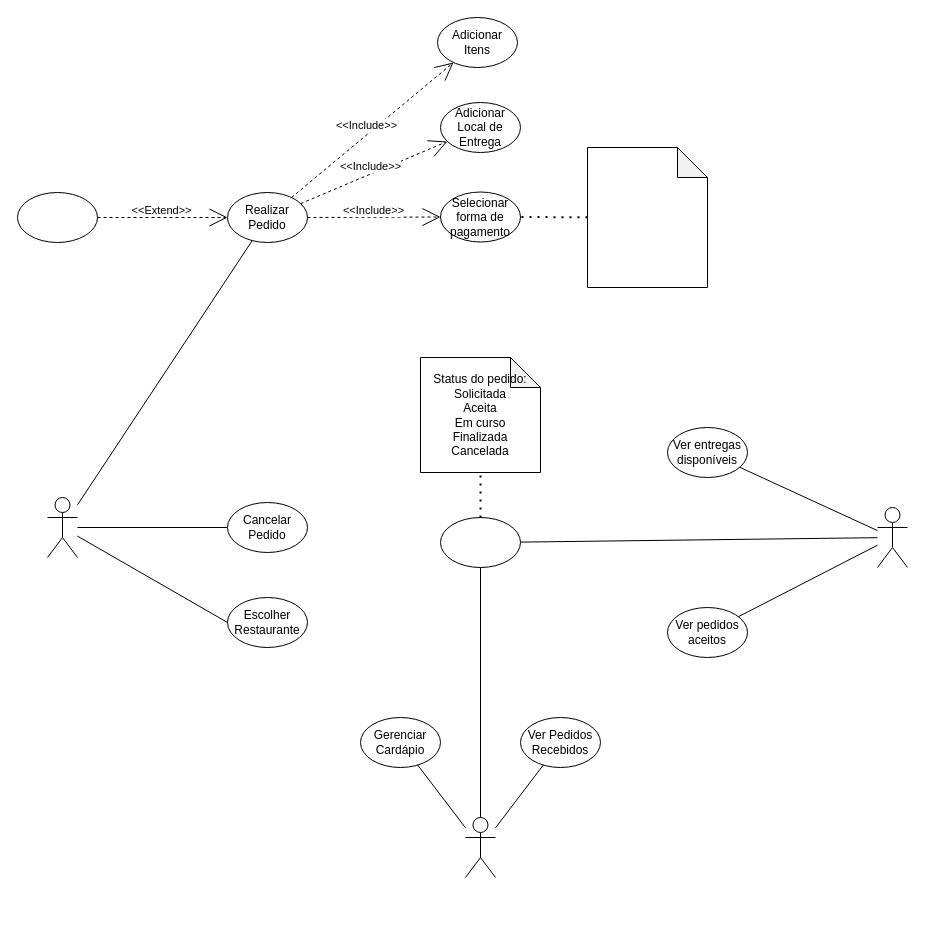
Image size: 939x931. Some labels were removed from this diagram. The centre of each missing label's shape, as x and y in pixels:
Agendar Pedido: the point at 57,217
Atualizar status do pedido: the point at 480,542
Entregador: the point at 892,537
Formas de pagamento: - Dinheiro - Paypal - Cartão: the point at 647,217
Passageiro: the point at 62,527
Restaurante: the point at 480,847
